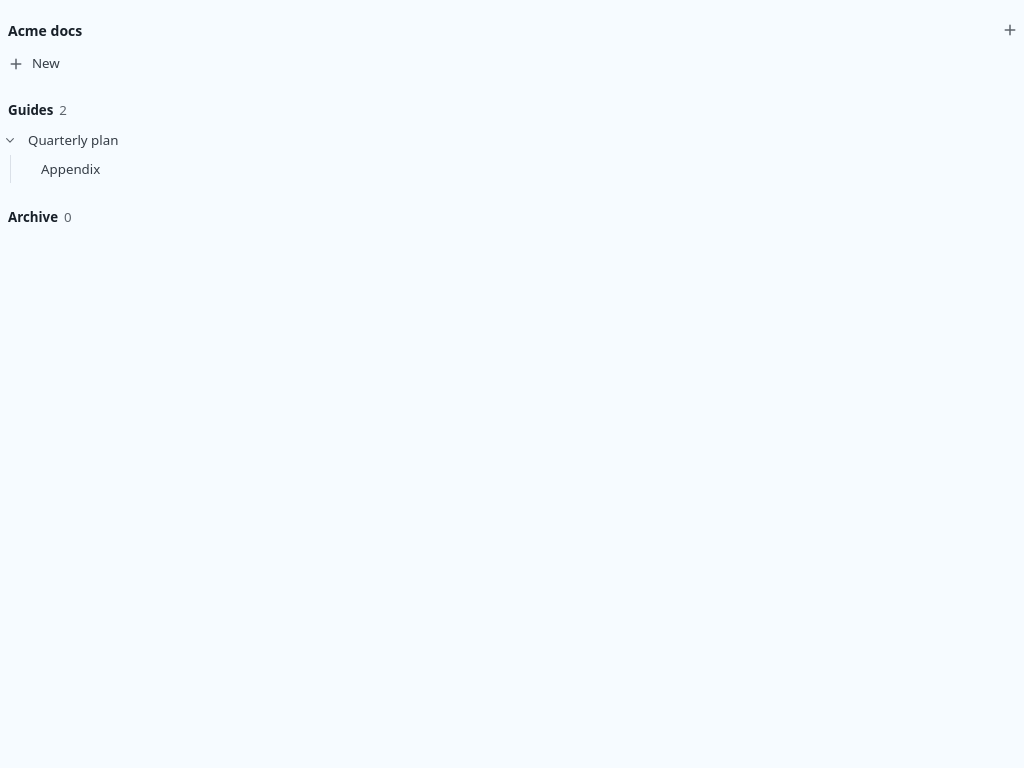
WorkspaceTree creation entry points › opens New document from the sidebar control
This screenshot has width=1024, height=768.
Click the button "New" at coordinates (16, 64), box [0,48,1023,80]
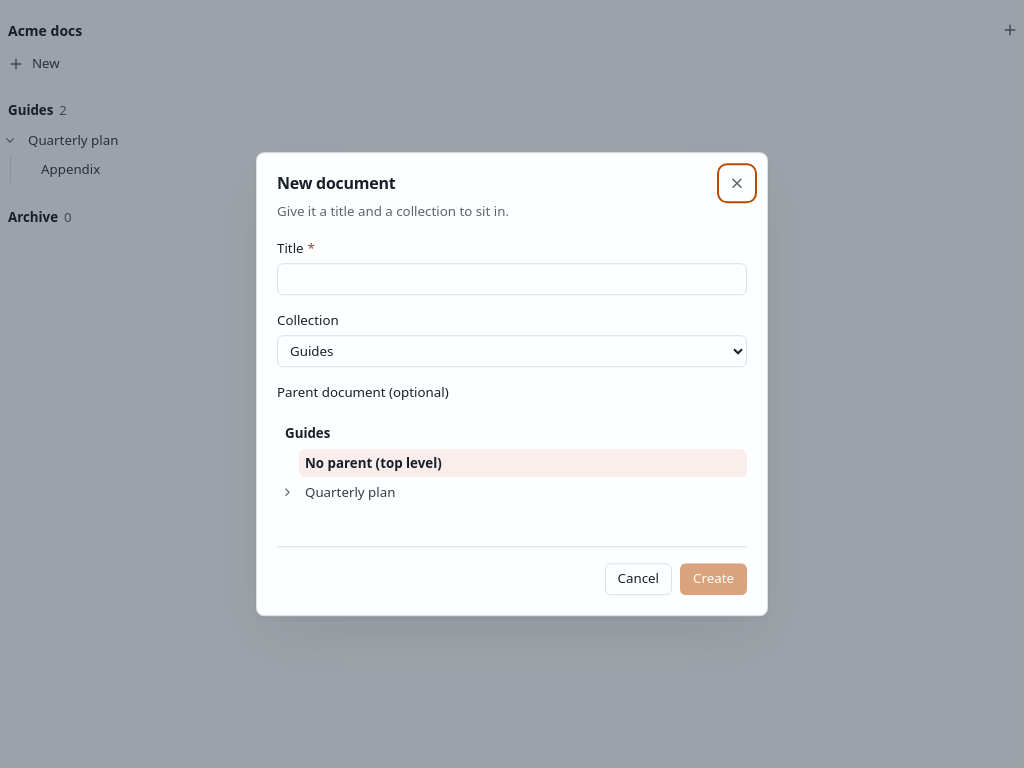
expect the dialog "New document" is shown: met, box [256,152,768,616]
